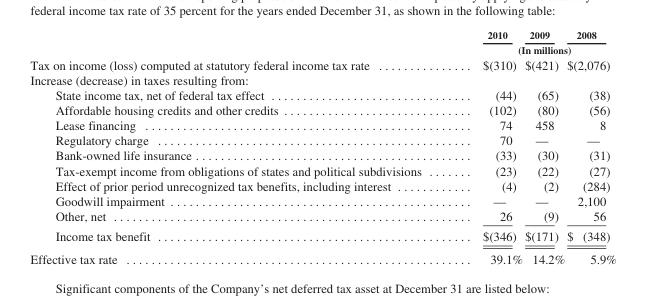table: (29, 28, 615, 265)
table column: (29, 28, 451, 265), (451, 28, 523, 265), (565, 28, 615, 265), (523, 28, 565, 265)
table column header: (29, 28, 615, 56)
table projected row header: (29, 71, 615, 86)
table row: (29, 225, 615, 247), (29, 247, 615, 265), (29, 208, 615, 225), (29, 86, 615, 102), (29, 177, 615, 193), (29, 56, 615, 71), (29, 71, 615, 86), (29, 102, 615, 117), (29, 117, 615, 132), (29, 132, 615, 147), (29, 147, 615, 162), (29, 162, 615, 177), (29, 193, 615, 208), (29, 28, 615, 42), (29, 42, 615, 56)
table spanning cell: (451, 42, 615, 56)
